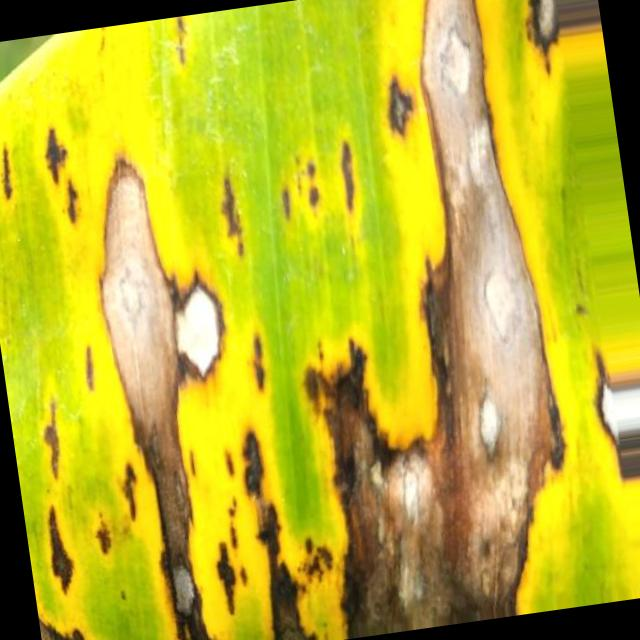Banana_Yellow_Sigatoka: (219, 0, 640, 640), (36, 121, 305, 640)
